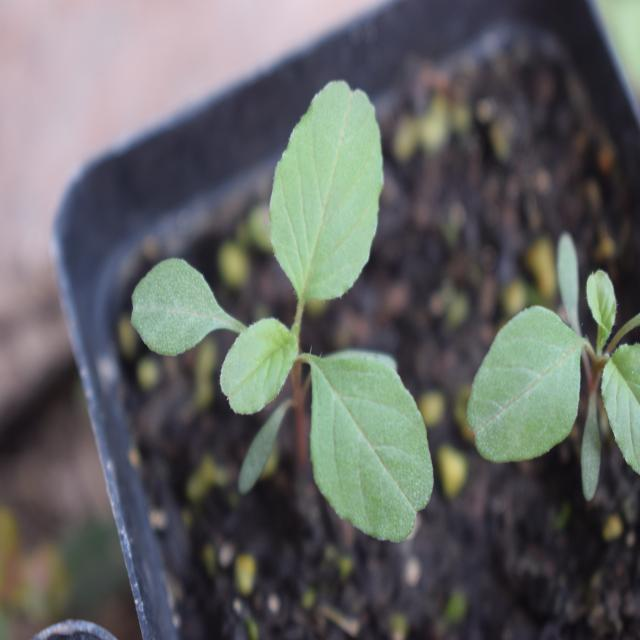pigweed: (147, 94, 453, 550)
